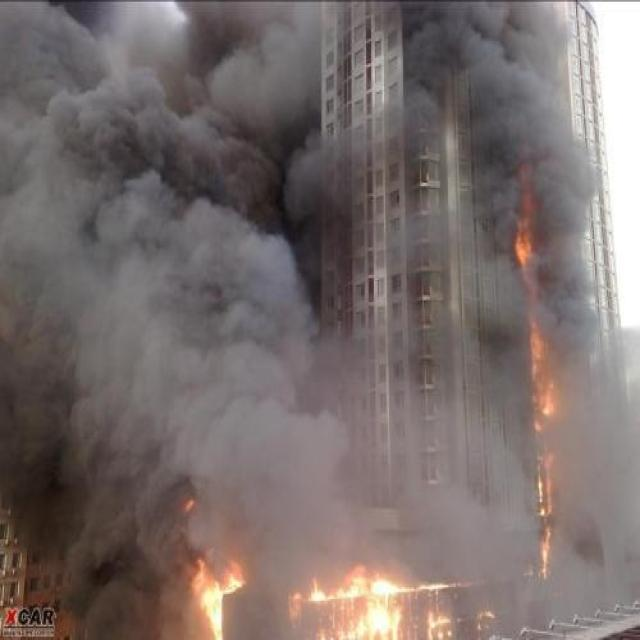Fire: (290, 560, 454, 640), (192, 558, 247, 640), (528, 321, 560, 434), (538, 476, 556, 575), (514, 233, 534, 264)
Smoke: (2, 1, 640, 640)
